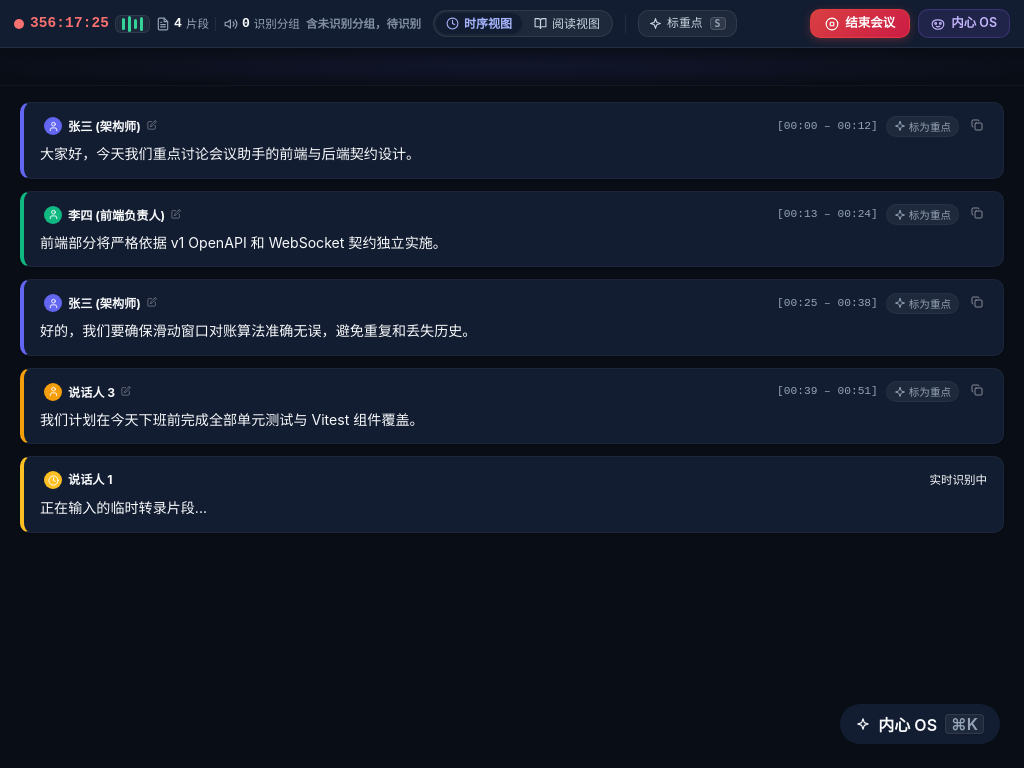
Test: Meeting React Components DOM Rendering › renders MeetingRecordingView with active segments, partial text, and controls
expect the text "含未识别分组，待识别" is shown: met, box [306, 17, 421, 30]
expect the button with class "btn-star-action" is shown: met, box [638, 10, 737, 37]
Click the button "阅读视图". click: (567, 24)
box: [524, 13, 610, 34]
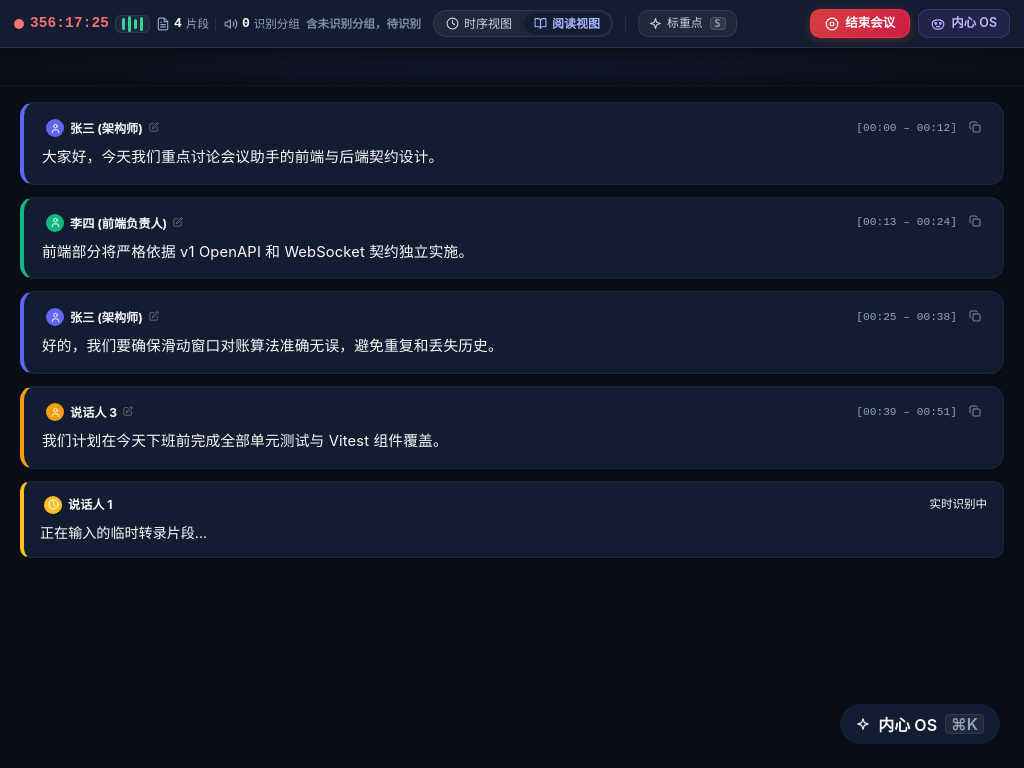
expect the element with class "reading-block-card" that starts with "张三 (架构师)" is shown: met, box [20, 102, 1004, 185]
